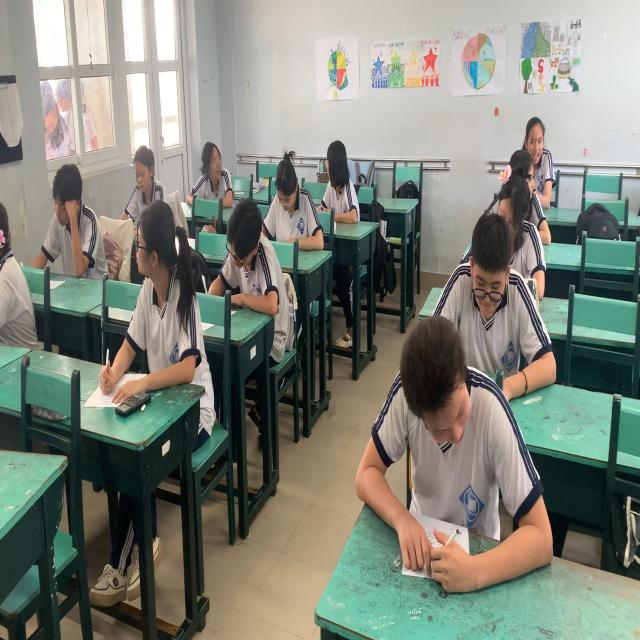cheating: (124, 196, 200, 392), (314, 129, 365, 233), (190, 144, 242, 208)
not_cheating: (373, 313, 530, 596), (450, 210, 548, 382), (40, 161, 106, 281), (492, 168, 552, 291), (221, 188, 285, 298), (262, 147, 322, 243), (522, 116, 560, 210), (126, 140, 164, 220)
